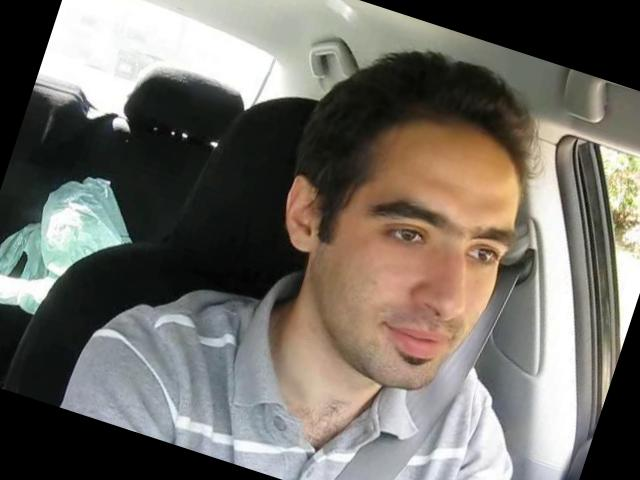eye_open: (378, 213, 437, 260), (462, 236, 504, 273)
face: (304, 160, 524, 412)
